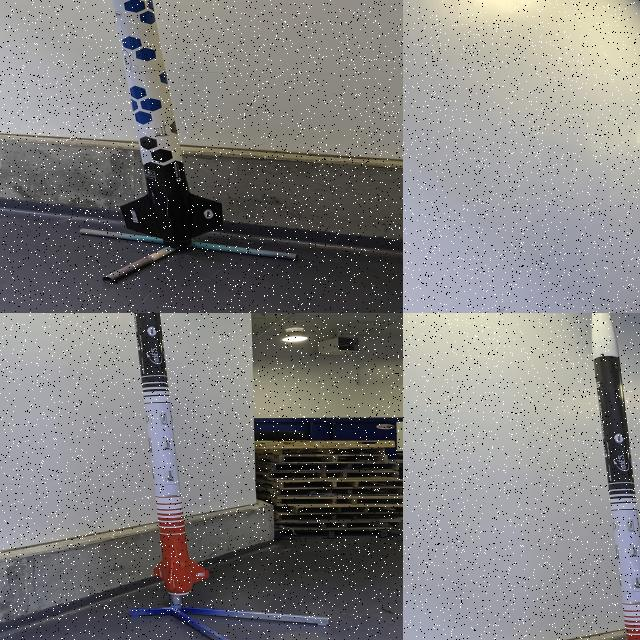Rocket: (111, 0, 223, 247), (133, 313, 209, 595), (591, 313, 640, 640)
